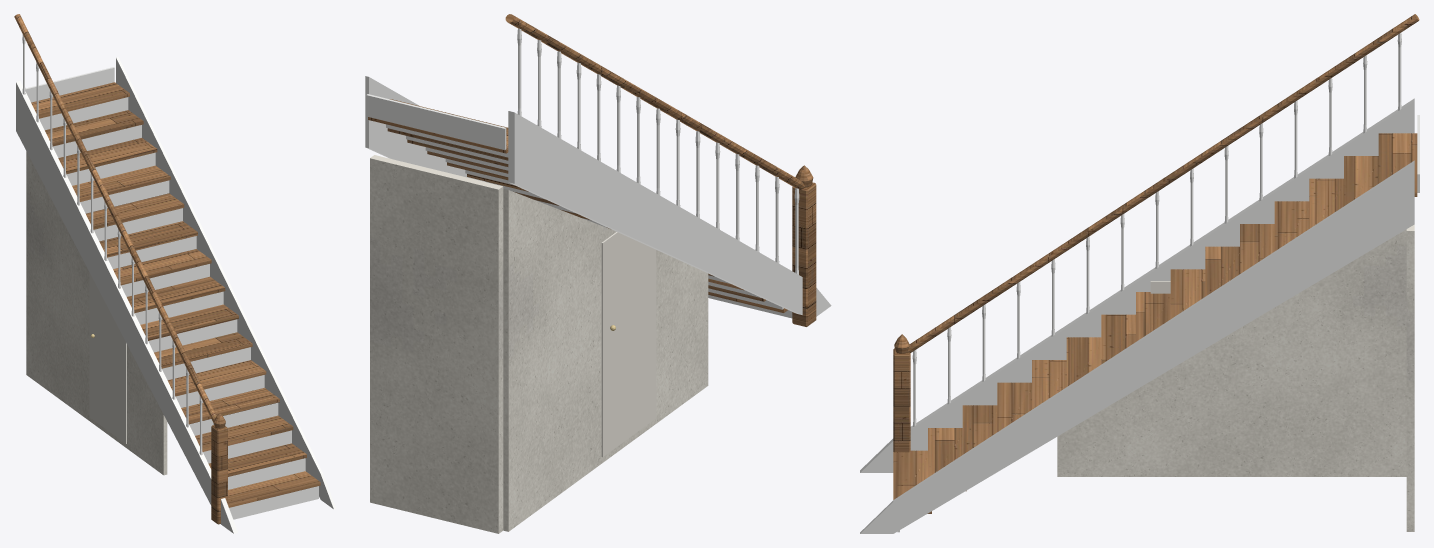
File: stair.glb
The picture shows the model from 3 angles, left to right: view 1: azimuth 30°, elevation 25°; view 2: azimuth 150°, elevation 25°; view 3: azimuth 270°, elevation 25°; orthographic projection. The views are drawn at different scales.
Visible parts, largest first — view 1: stair_trim, stair_floor, stair_plaster, stair_door_int; view 2: stair_plaster, stair_trim, stair_door_int, stair_floor; view 3: stair_plaster, stair_trim, stair_floor.
Boxes of the visible parts, left/top/right/bottom form: stair_trim: left=16, top=34, right=336, bottom=533; stair_floor: left=14, top=14, right=320, bottom=524; stair_plaster: left=26, top=151, right=167, bottom=475; stair_door_int: left=89, top=272, right=126, bottom=443; stair_plaster: left=370, top=155, right=708, bottom=533; stair_trim: left=365, top=28, right=831, bottom=318; stair_door_int: left=601, top=232, right=656, bottom=457; stair_floor: left=368, top=14, right=816, bottom=326; stair_plaster: left=1057, top=224, right=1414, bottom=531; stair_trim: left=860, top=33, right=1419, bottom=533; stair_floor: left=893, top=14, right=1419, bottom=513.
Bounding box in the file's own units: 1.16 × 3.79 × 4.2.
5 materials, 2 textured.
